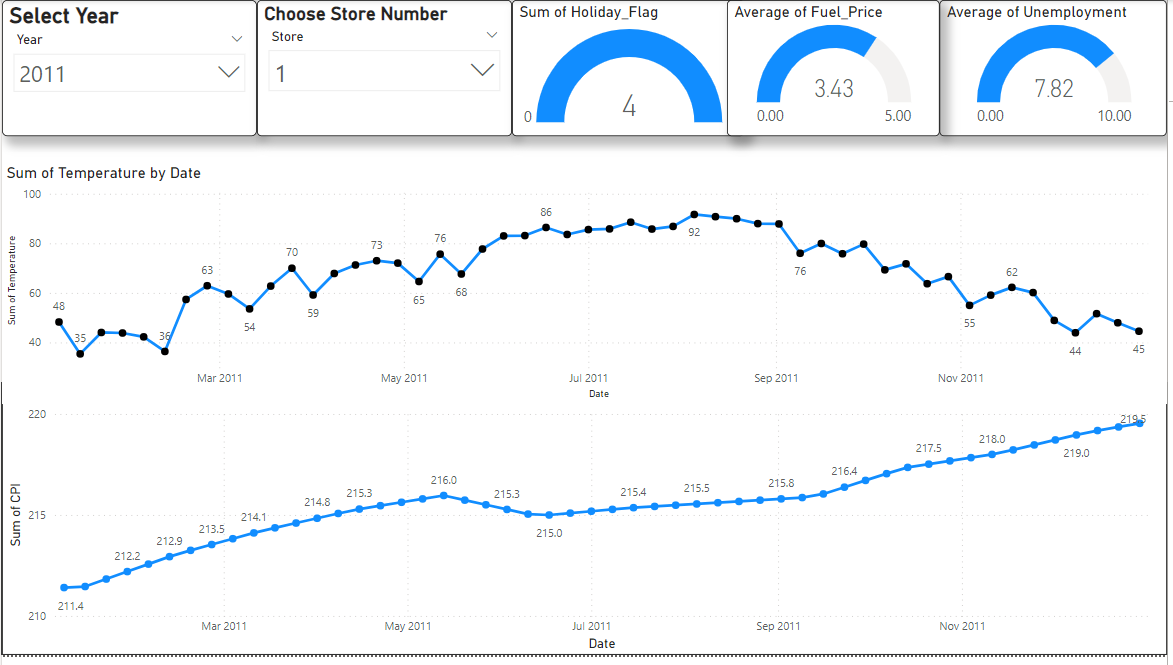

Layout of this report page (visuals, bound fields, positions):
{"tool":"powerbi","page":{"name":"Descriptive Analysis","canvas":[1280,720],"ordinal":0},"visuals":[{"type":"slicer","title":"Select Year","fields":{"Values":["walmart-sales-dataset.Date_y"]},"box":[0,0,280.2,149.7],"z":0},{"type":"lineChart","fields":{"Y":["Sum(walmart-sales-dataset.CPI)"],"Category":["walmart-sales-dataset.Date"]},"box":[0,420.3,1280,299.4],"z":1000},{"type":"slicer","title":"Choose Store Number","fields":{"Values":["walmart-sales-dataset.Store"]},"box":[280.2,0,280.2,149.7],"z":2000},{"type":"gauge","fields":{"Y":["Sum(walmart-sales-dataset.Holiday_Flag)"]},"box":[560.3,0,255.5,149.7],"z":3000},{"type":"lineChart","fields":{"Category":["walmart-sales-dataset.Date"],"Y":["Sum(walmart-sales-dataset.Temperature)"]},"box":[0,179.9,1280,263.7],"z":4000},{"type":"gauge","fields":{"Y":["Avg(walmart-sales-dataset.Unemployment)"]},"box":[1030,0,250,149.7],"z":5000},{"type":"gauge","fields":{"Y":["Avg(walmart-sales-dataset.Fuel_Price)"]},"box":[796.6,0,233.5,149.7],"z":6000}]}

Visuals, with their boxes in screenshot pixels (x1, y1, x2, y2), scaled from the page's 1280x720 canvas onto the 1173x665 screenshot:
"Select Year" slicer: l=0, t=0, r=257, b=138
lineChart - Sum(walmart-sales-dataset.CPI) x walmart-sales-dataset.Date: l=0, t=388, r=1172, b=664
"Choose Store Number" slicer: l=257, t=0, r=514, b=138
gauge - Sum(walmart-sales-dataset.Holiday_Flag): l=513, t=0, r=748, b=138
lineChart - walmart-sales-dataset.Date x Sum(walmart-sales-dataset.Temperature): l=0, t=166, r=1172, b=410
gauge - Avg(walmart-sales-dataset.Unemployment): l=944, t=0, r=1172, b=138
gauge - Avg(walmart-sales-dataset.Fuel_Price): l=730, t=0, r=944, b=138
